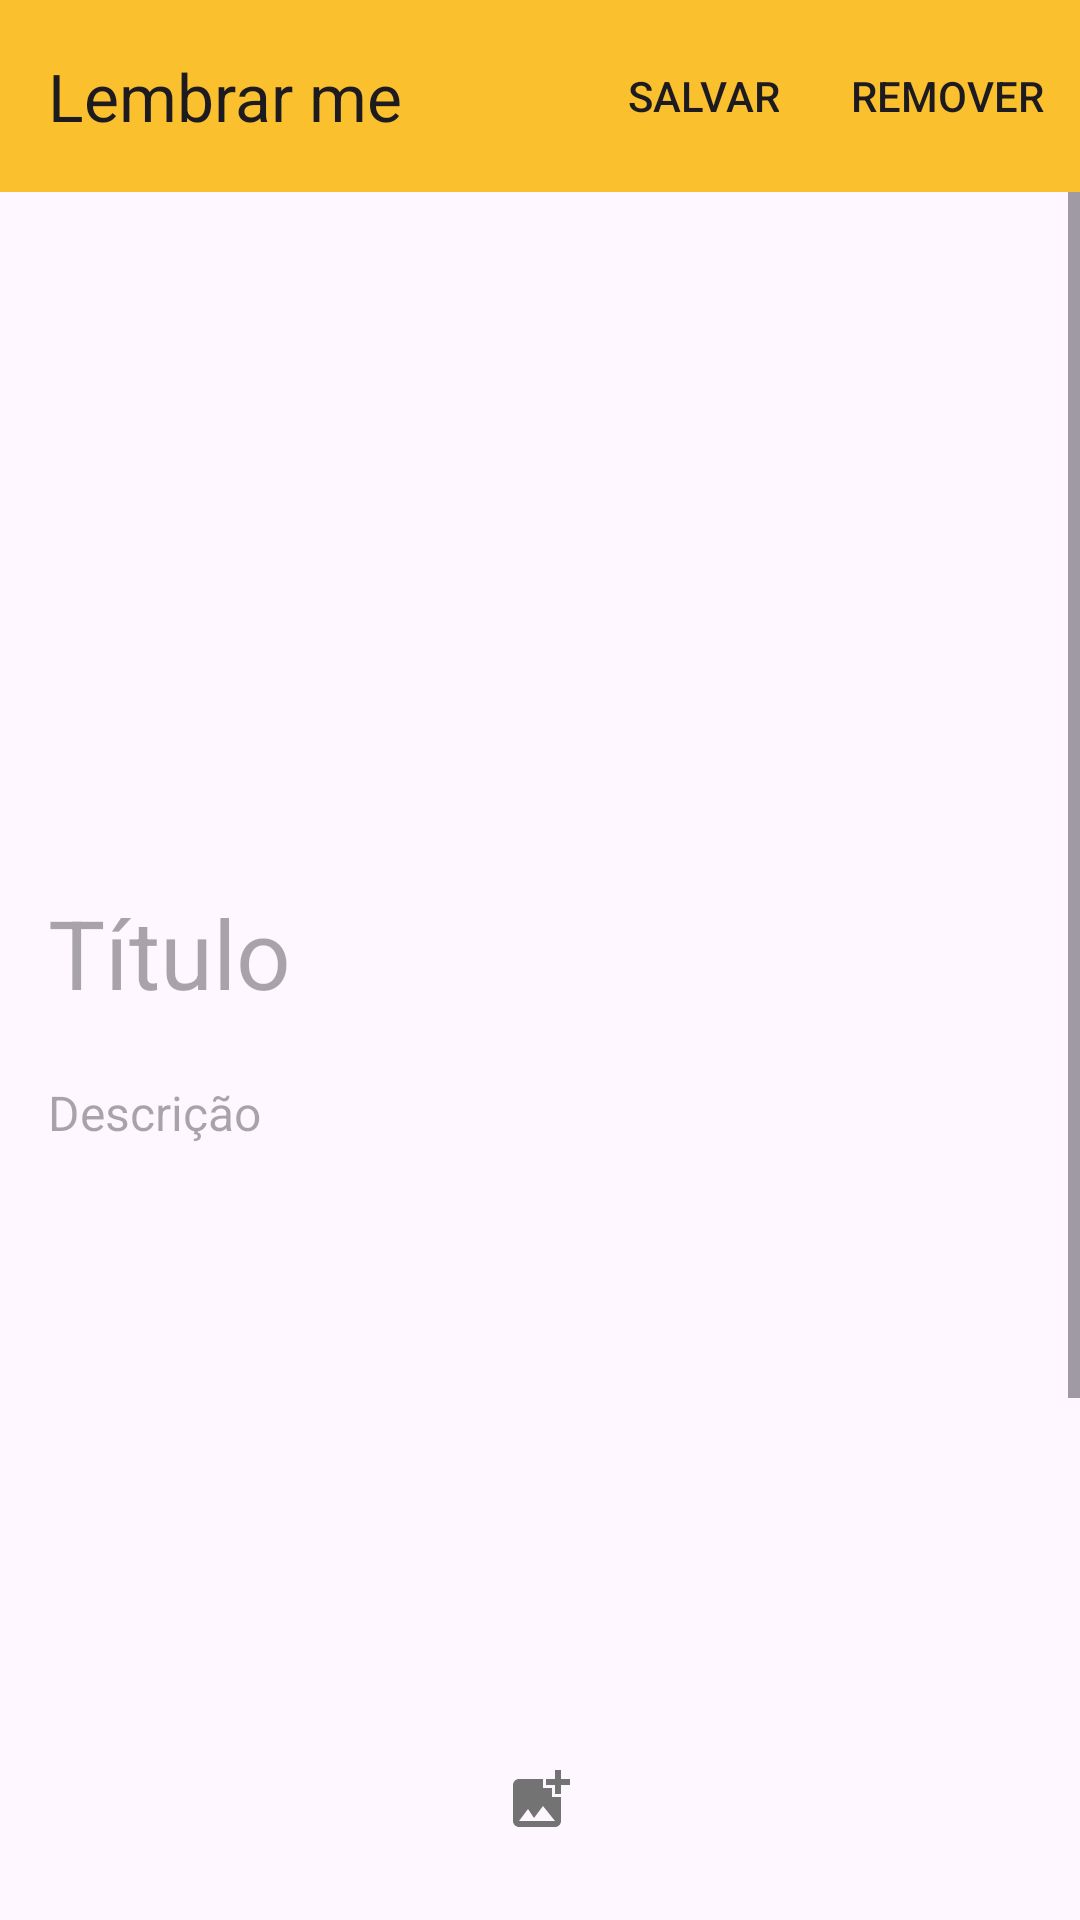

Icons on this 1080 × 1920 Android screen, each with its box as [x1, y1, x2, y2]:
Adicionar imagem: [513, 1770, 570, 1827]
